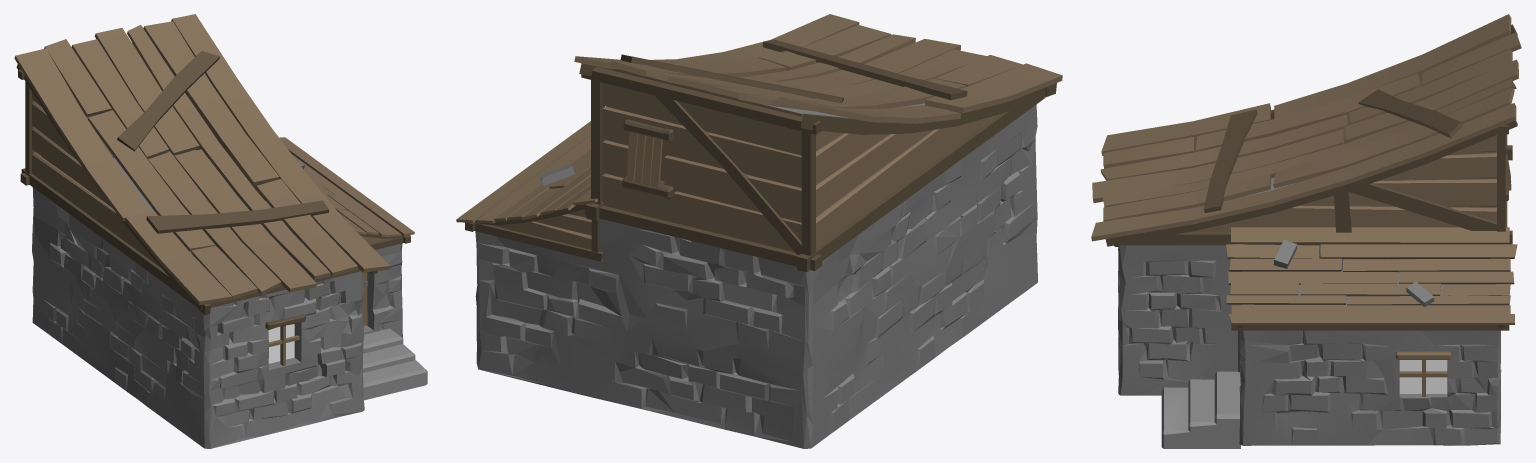
File: village_stone_house_e.FBX
3 views of the same model, side by side, from view 1: azimuth 30°, elevation 25°; view 2: azimuth 150°, elevation 25°; view 3: azimuth 270°, elevation 25° (orthographic). The views are drawn at different scales.
Visible parts, largest first — view 1: village_stone_house_e; view 2: village_stone_house_e; view 3: village_stone_house_e.
Boxes of the visible parts, x1=… form: village_stone_house_e: x1=14, y1=14, x2=427, y2=448; village_stone_house_e: x1=456, y1=14, x2=1062, y2=448; village_stone_house_e: x1=1091, y1=14, x2=1521, y2=448.
Size of the model in its own units: 7.18 by 6.9 by 8.99.
